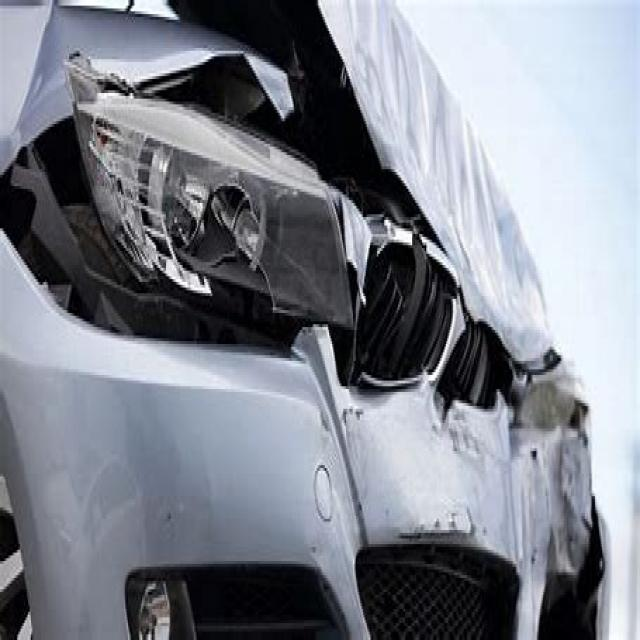Accident: (58, 1, 589, 484)
